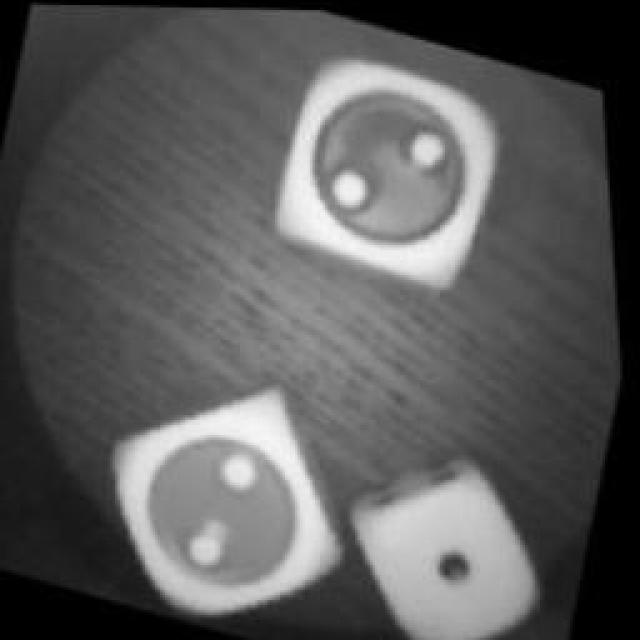dice_1: (322, 440, 582, 640)
dice_2: (76, 365, 386, 640), (252, 21, 542, 311)
